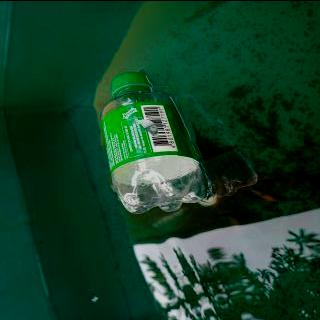bottle: (98, 68, 210, 212)
